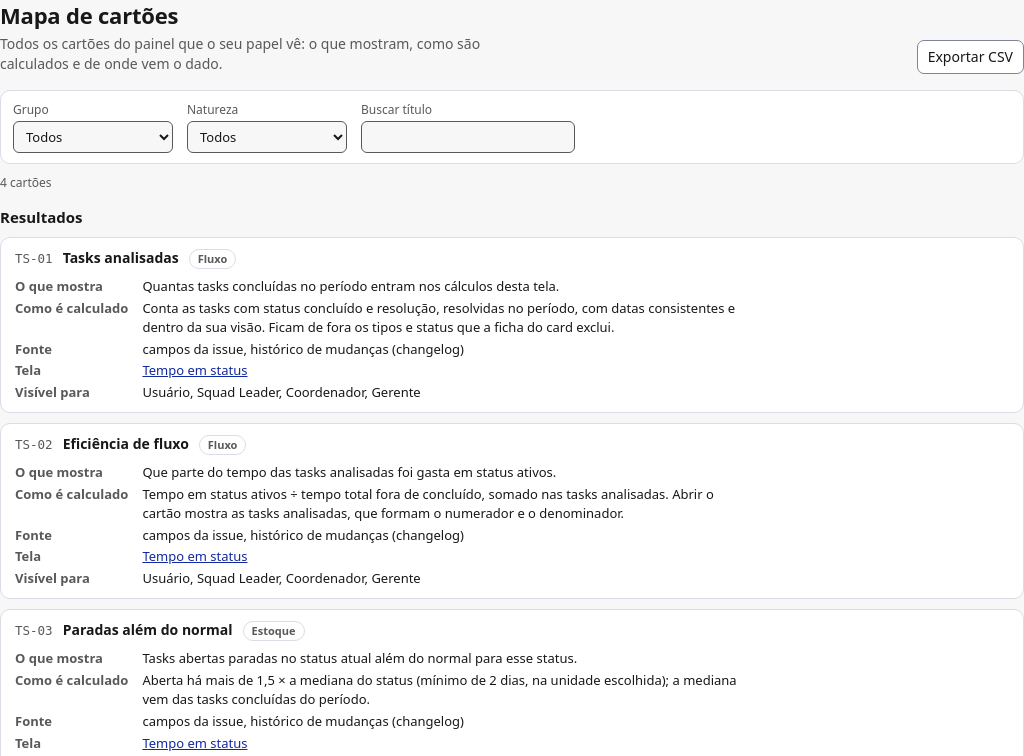
Test case: tela Mapa de cartões › buscaPorTitulo
Step 1. Type "EFICIÊNCIA" into the search field labelled "Buscar título" → (468, 137), box [361,121,575,153]
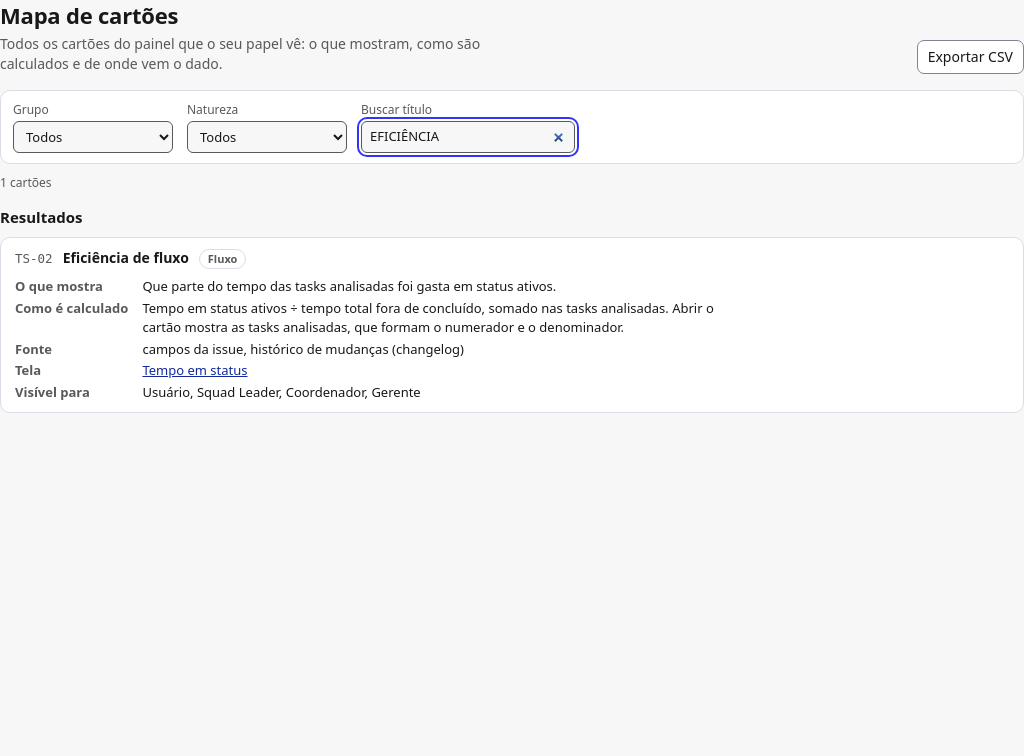
Expected: the heading "Eficiência de fluxo" is shown, [63,248,189,268]
Expected: the number of list items is 1, [0,237,1023,413]
Step 2. Replace the text in the search field labelled "Buscar título" with "não existe" → (468, 137), box [361,121,575,153]
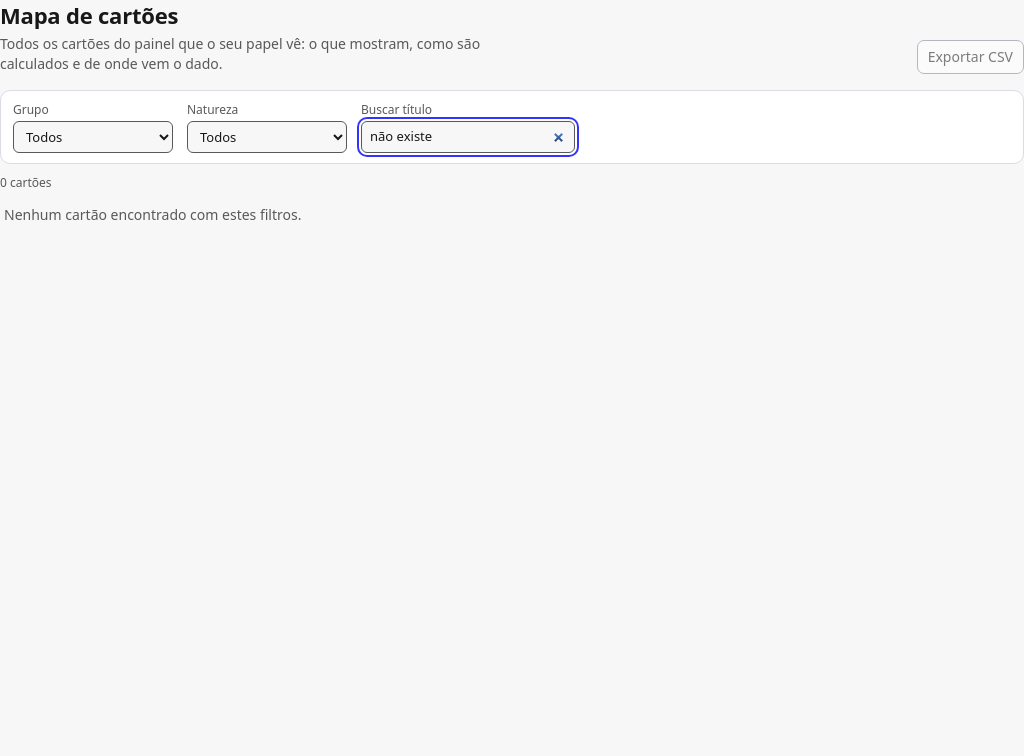
Expected: no list items are shown
Expected: the text "Nenhum cartão encontrado com estes filtros." is shown, [4,205,302,224]
